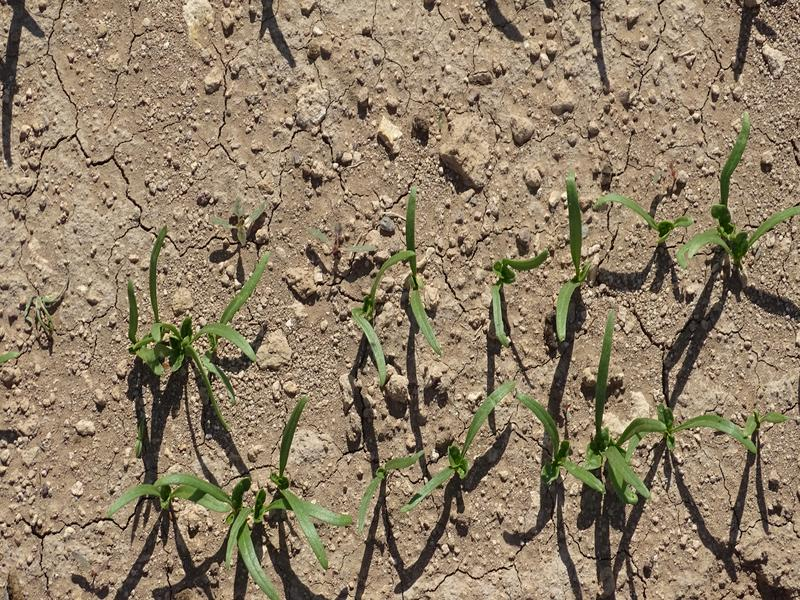Espinaca: (109, 407, 350, 591), (517, 379, 762, 500), (120, 225, 273, 389), (359, 381, 514, 517), (683, 116, 791, 264), (354, 209, 445, 368), (490, 254, 545, 349), (556, 178, 581, 342), (602, 191, 695, 235)
